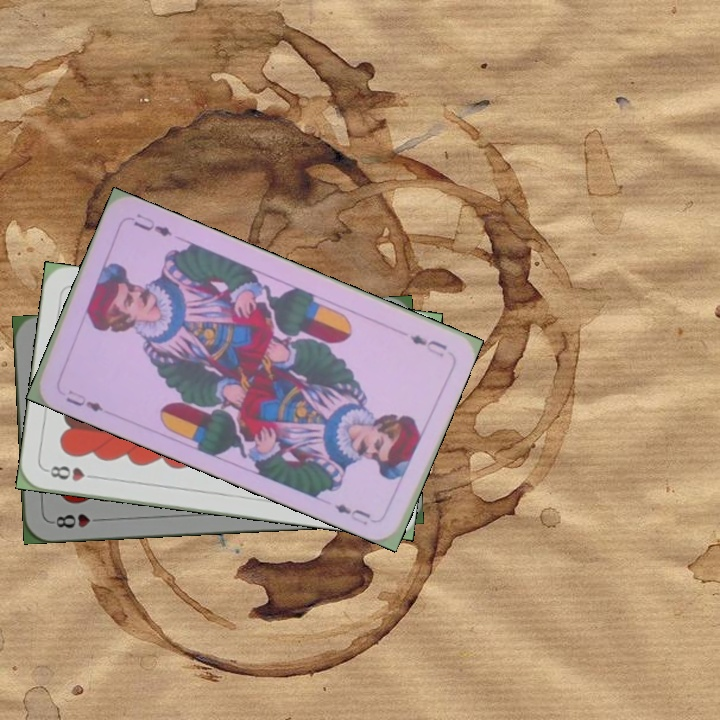EU: (405, 330, 450, 360), (61, 386, 106, 415)
H8: (43, 461, 102, 484), (47, 510, 107, 531)
